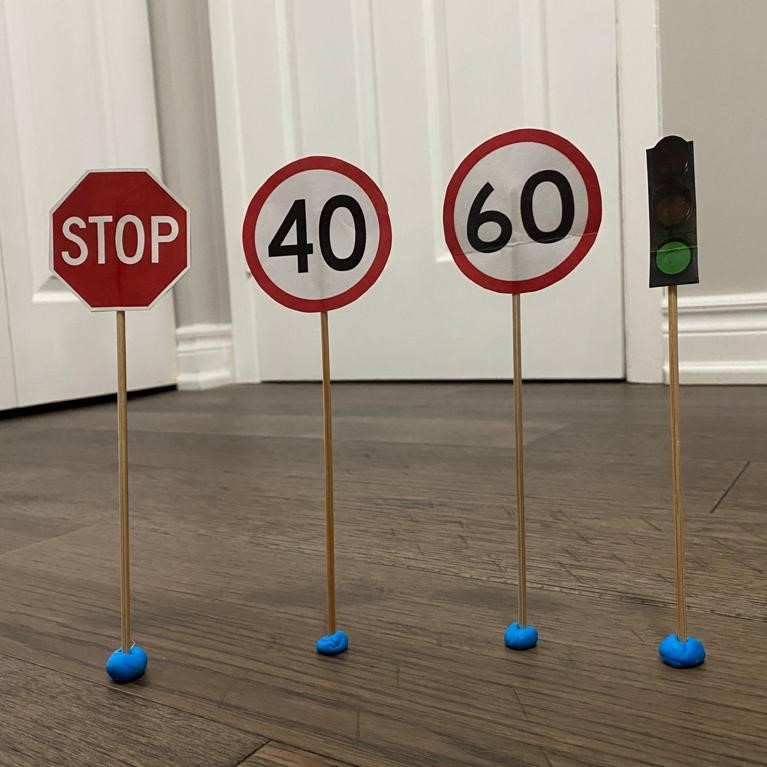Green Traffic Light: (641, 134, 702, 290)
Speed Limit 40: (238, 155, 394, 314)
Speed Limit 60: (438, 125, 607, 299)
Stop Sign: (44, 164, 199, 316)
